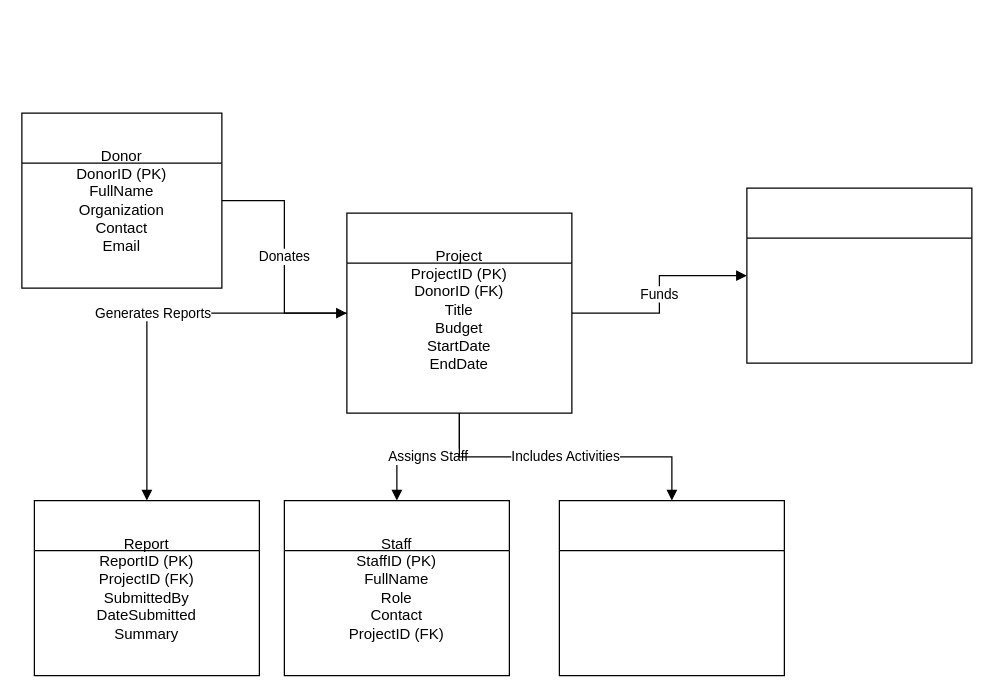
The diagram is 994 pixels wide and 698 high, and some of its shapes have lost their labels. Each missing label, with the centre of its shape:
Activity ActivityID (PK) ProjectID (FK) Title ScheduleDate Status: point 671,587
Expense ExpenseID (PK) ProjectID (FK) Description Cost DateIncurred: point 859,275
